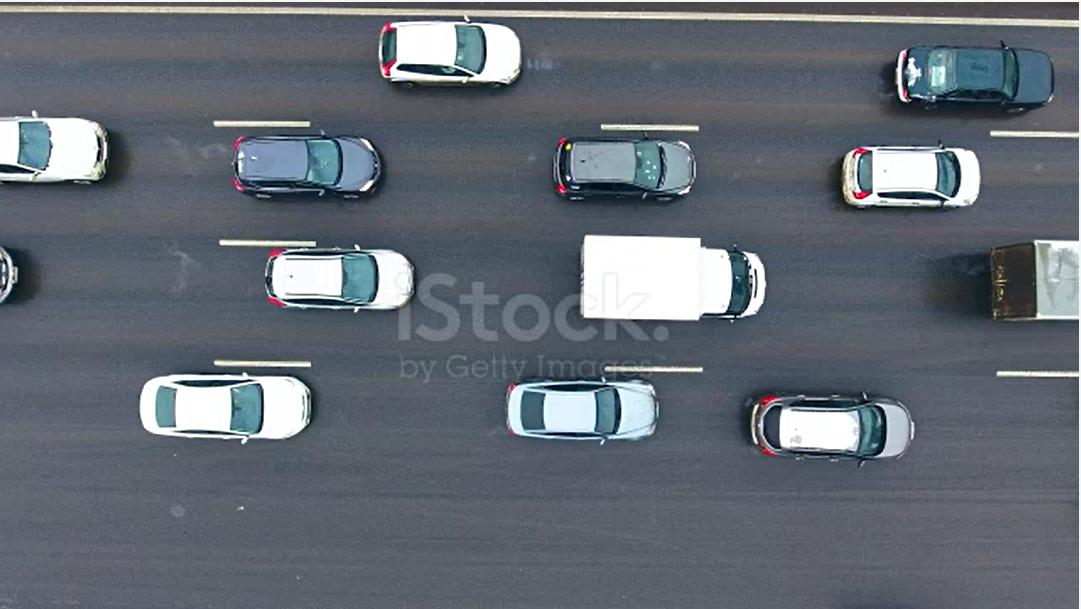car: (571, 207, 778, 365), (111, 345, 332, 490), (229, 215, 452, 349), (345, 1, 546, 122), (213, 109, 401, 233), (495, 349, 678, 470), (867, 21, 1062, 134), (723, 373, 922, 476), (801, 127, 985, 229), (540, 119, 731, 216), (0, 90, 122, 220)
